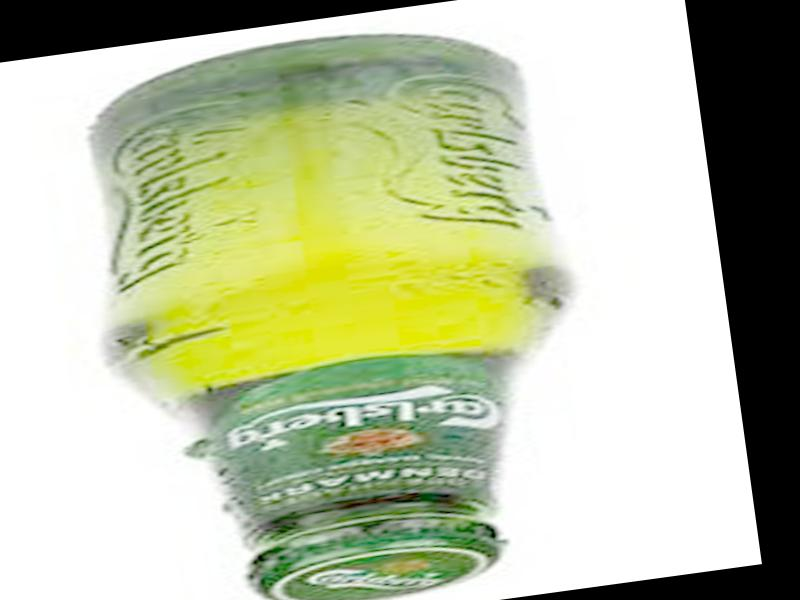Beer: (68, 7, 600, 600)
